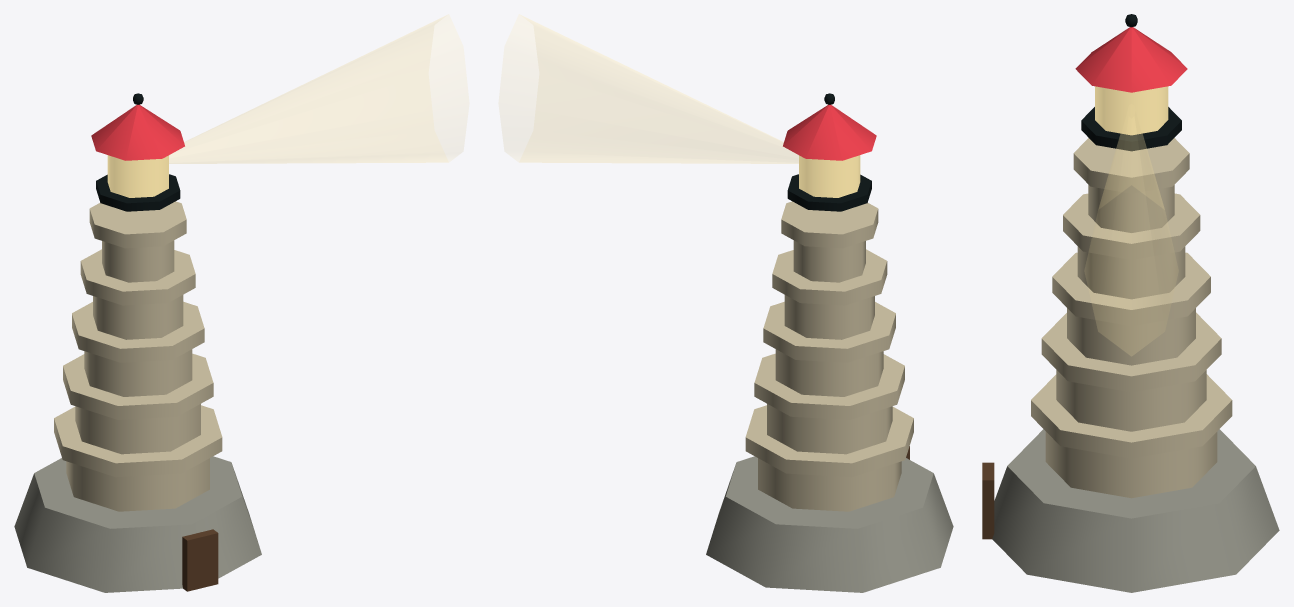
Rendered from lighthouse.glb.
3 views of the same model, side by side, from view 1: azimuth 30°, elevation 25°; view 2: azimuth 150°, elevation 25°; view 3: azimuth 270°, elevation 25° (orthographic). The views are drawn at different scales.
Parts seen in each view (by area): view 1: Lighthouse, beam; view 2: Lighthouse, beam; view 3: Lighthouse, beam.
Part boxes in pixels (bbox=[...]): Lighthouse: bbox=[14, 93, 261, 592]; beam: bbox=[169, 14, 468, 163]; Lighthouse: bbox=[706, 93, 953, 592]; beam: bbox=[499, 14, 798, 163]; Lighthouse: bbox=[982, 14, 1279, 592]; beam: bbox=[1085, 104, 1178, 355].
Bounding box in the file's own units: 9.5 × 9.7 × 5.02.
